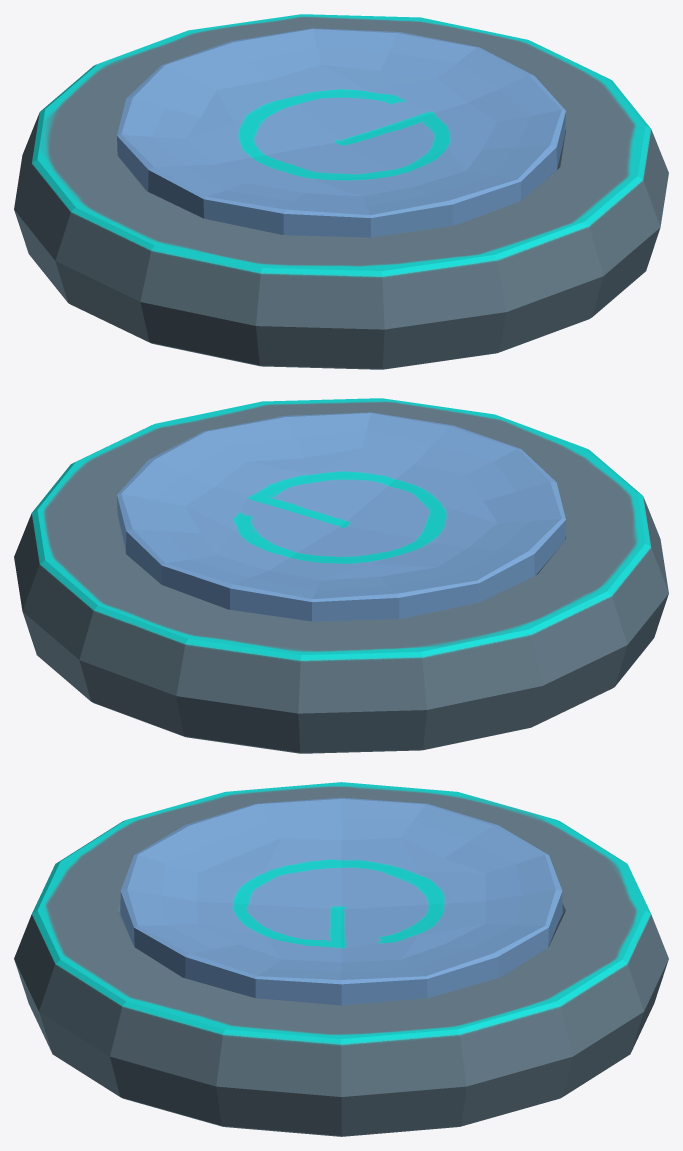
Rendered from gravity_button.fbx.
The picture shows the model from 3 angles, top to bottom: view 1: azimuth 30°, elevation 25°; view 2: azimuth 150°, elevation 25°; view 3: azimuth 270°, elevation 25°; orthographic projection.
Visible parts, largest first — view 1: gomb_low; view 2: gomb_low; view 3: gomb_low.
Boxes of the visible parts, x1,y1,x2,y2 form: gomb_low: (14, 14, 668, 369); gomb_low: (14, 398, 668, 753); gomb_low: (14, 782, 668, 1136).
Size of the model in its own units: 8.65 by 1.7 by 8.65.
